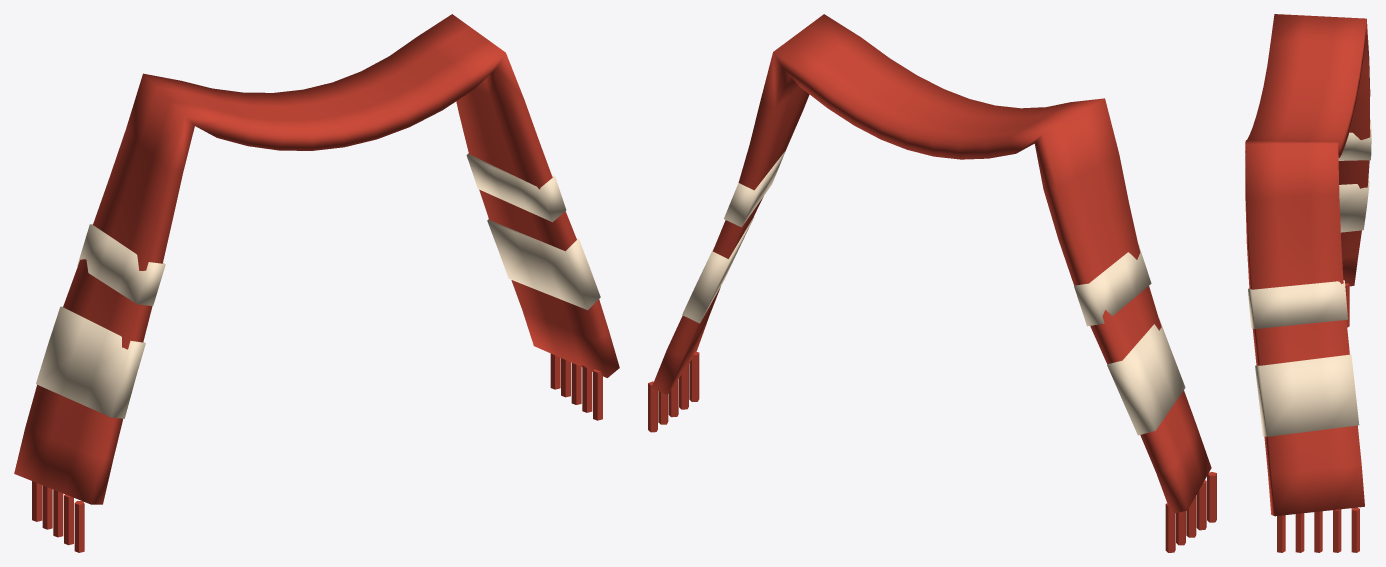
Rendered from khan_cam.glb.
The picture shows the model from 3 angles, left to right: view 1: azimuth 30°, elevation 25°; view 2: azimuth 150°, elevation 25°; view 3: azimuth 270°, elevation 25°; orthographic projection. The views are drawn at different scales.
Parts seen in each view (by area): view 1: khan_cam; view 2: khan_cam; view 3: khan_cam.
Boxes of the visible parts, x1,y1,x2,y2 form: khan_cam: [14, 14, 619, 552]; khan_cam: [648, 14, 1216, 552]; khan_cam: [1245, 14, 1371, 552].
Size of the model in its own units: 0.4294 by 0.2976 by 0.0953.
